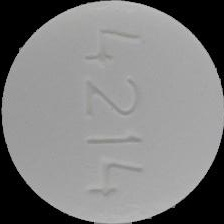0603-4214: (0, 0, 224, 224)
